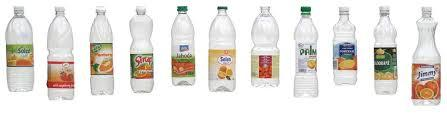Plastic bottle: (411, 5, 442, 108), (47, 4, 78, 103), (125, 4, 157, 96), (208, 4, 238, 92), (252, 4, 282, 88), (7, 6, 35, 93), (170, 3, 198, 90), (292, 5, 318, 98), (372, 4, 398, 97), (88, 7, 114, 99), (333, 4, 358, 87)
